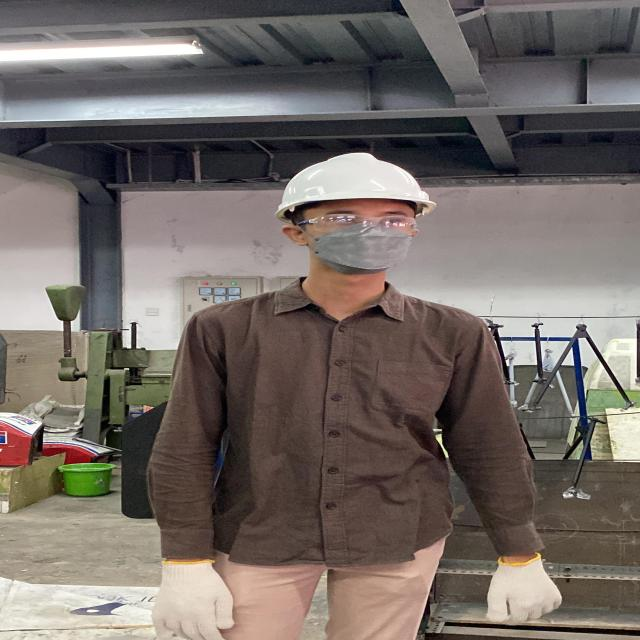face_mask: (302, 208, 417, 272)
glasses: (288, 210, 424, 238)
hand_glove: (141, 557, 244, 640), (468, 558, 574, 627)
head_helmet: (273, 151, 440, 214)
person: (145, 150, 561, 640)
